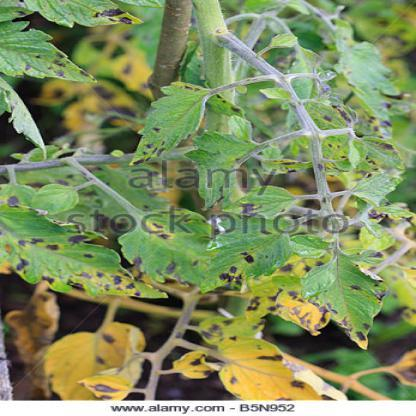Tomato Early blight leaf: (2, 236, 172, 299), (308, 256, 390, 354), (130, 78, 218, 168), (196, 216, 300, 288), (1, 29, 103, 88)
